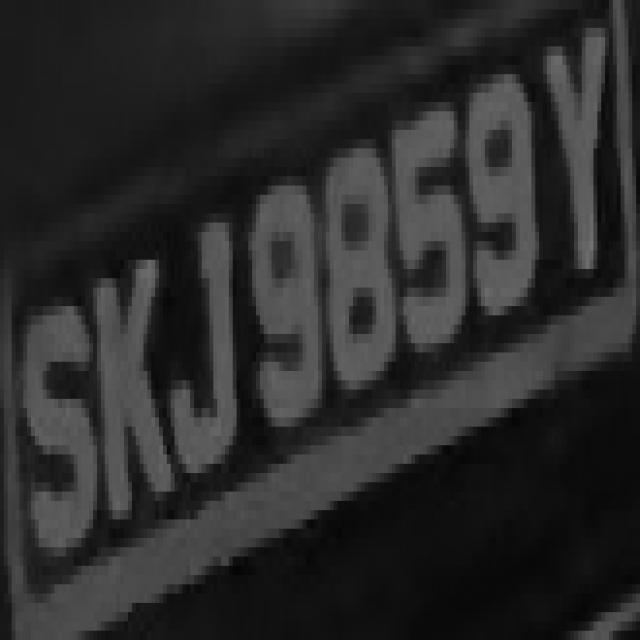5: (388, 102, 469, 371)
8: (302, 102, 396, 445)
9: (248, 158, 326, 473), (458, 83, 531, 362)
J: (167, 195, 240, 501)
K: (70, 214, 163, 556)
S: (23, 260, 89, 584)
Y: (536, 28, 628, 306)
